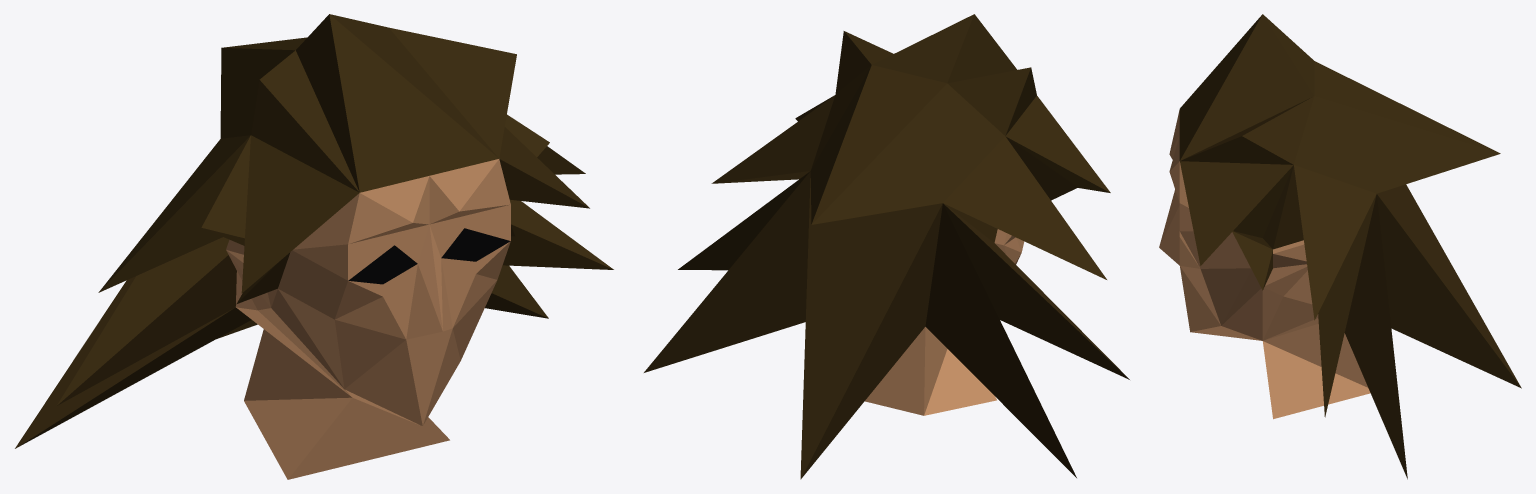
File: model_382_idk.obj
3 renders of one model, left to right at view 1: azimuth 30°, elevation 25°; view 2: azimuth 150°, elevation 25°; view 3: azimuth 270°, elevation 25°, orthographic. The views are drawn at different scales.
Visible parts, largest first — view 1: 382; view 2: 382; view 3: 382.
Boxes of the visible parts, x1,y1,x2,y2 form: 382: [15, 14, 613, 479]; 382: [644, 14, 1129, 479]; 382: [1159, 14, 1521, 479].
Size of the model in its own units: 48 by 38 by 35.
